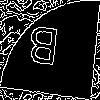B: (24, 25, 61, 75)
